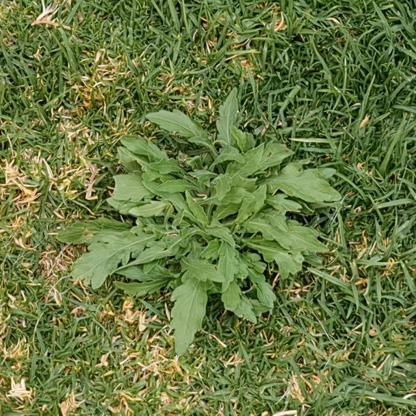Weeds: (55, 86, 342, 356)
